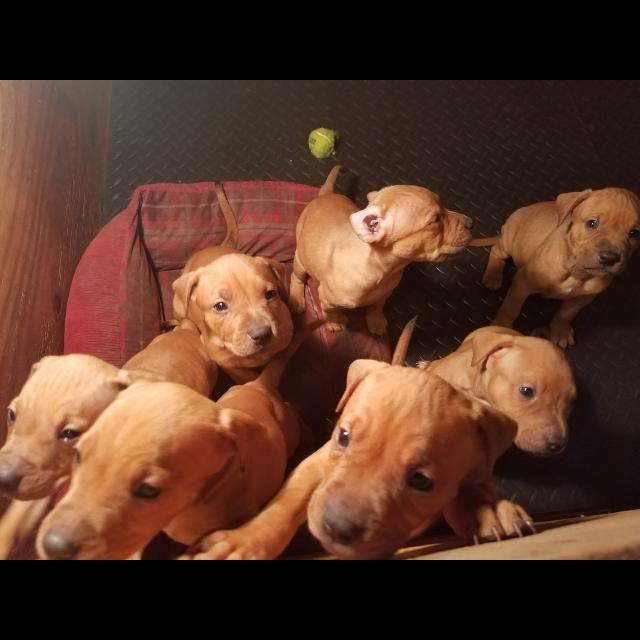am_pit_bull_terrier: (35, 318, 329, 560), (187, 361, 539, 559), (2, 323, 217, 561), (288, 165, 474, 337), (469, 187, 639, 351), (393, 317, 580, 457), (174, 180, 297, 389)
